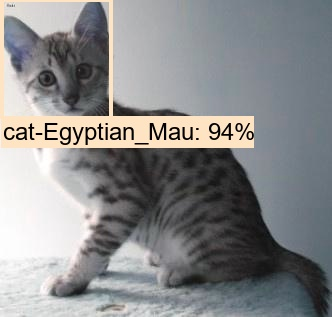cat-Egyptian_Mau: (1, 1, 110, 120)
